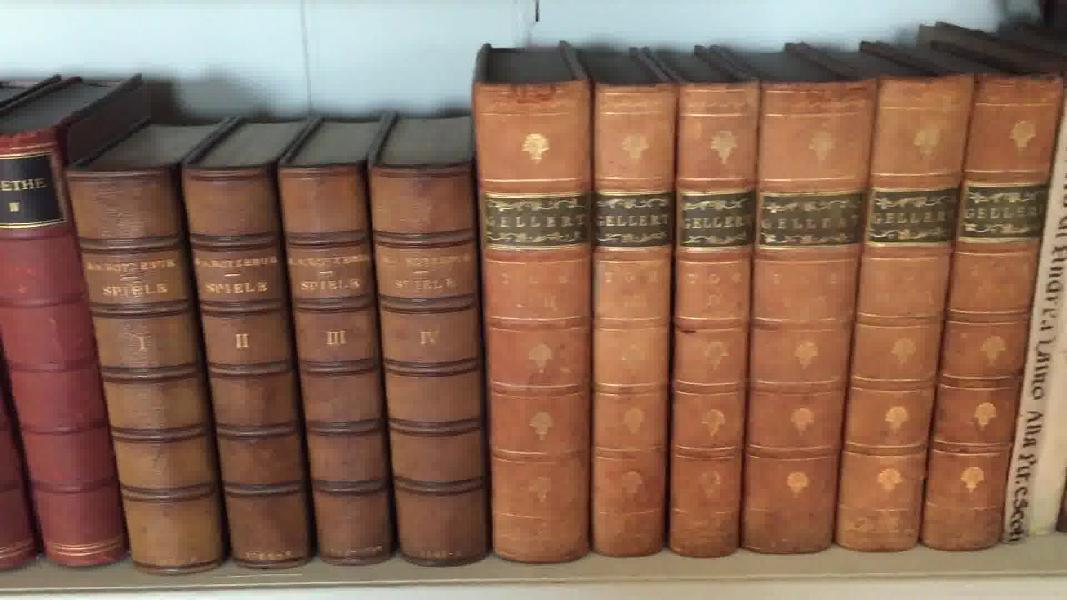Aa6-14_17: (63, 161, 498, 578)
Aa6-18_23: (466, 71, 1062, 558)
